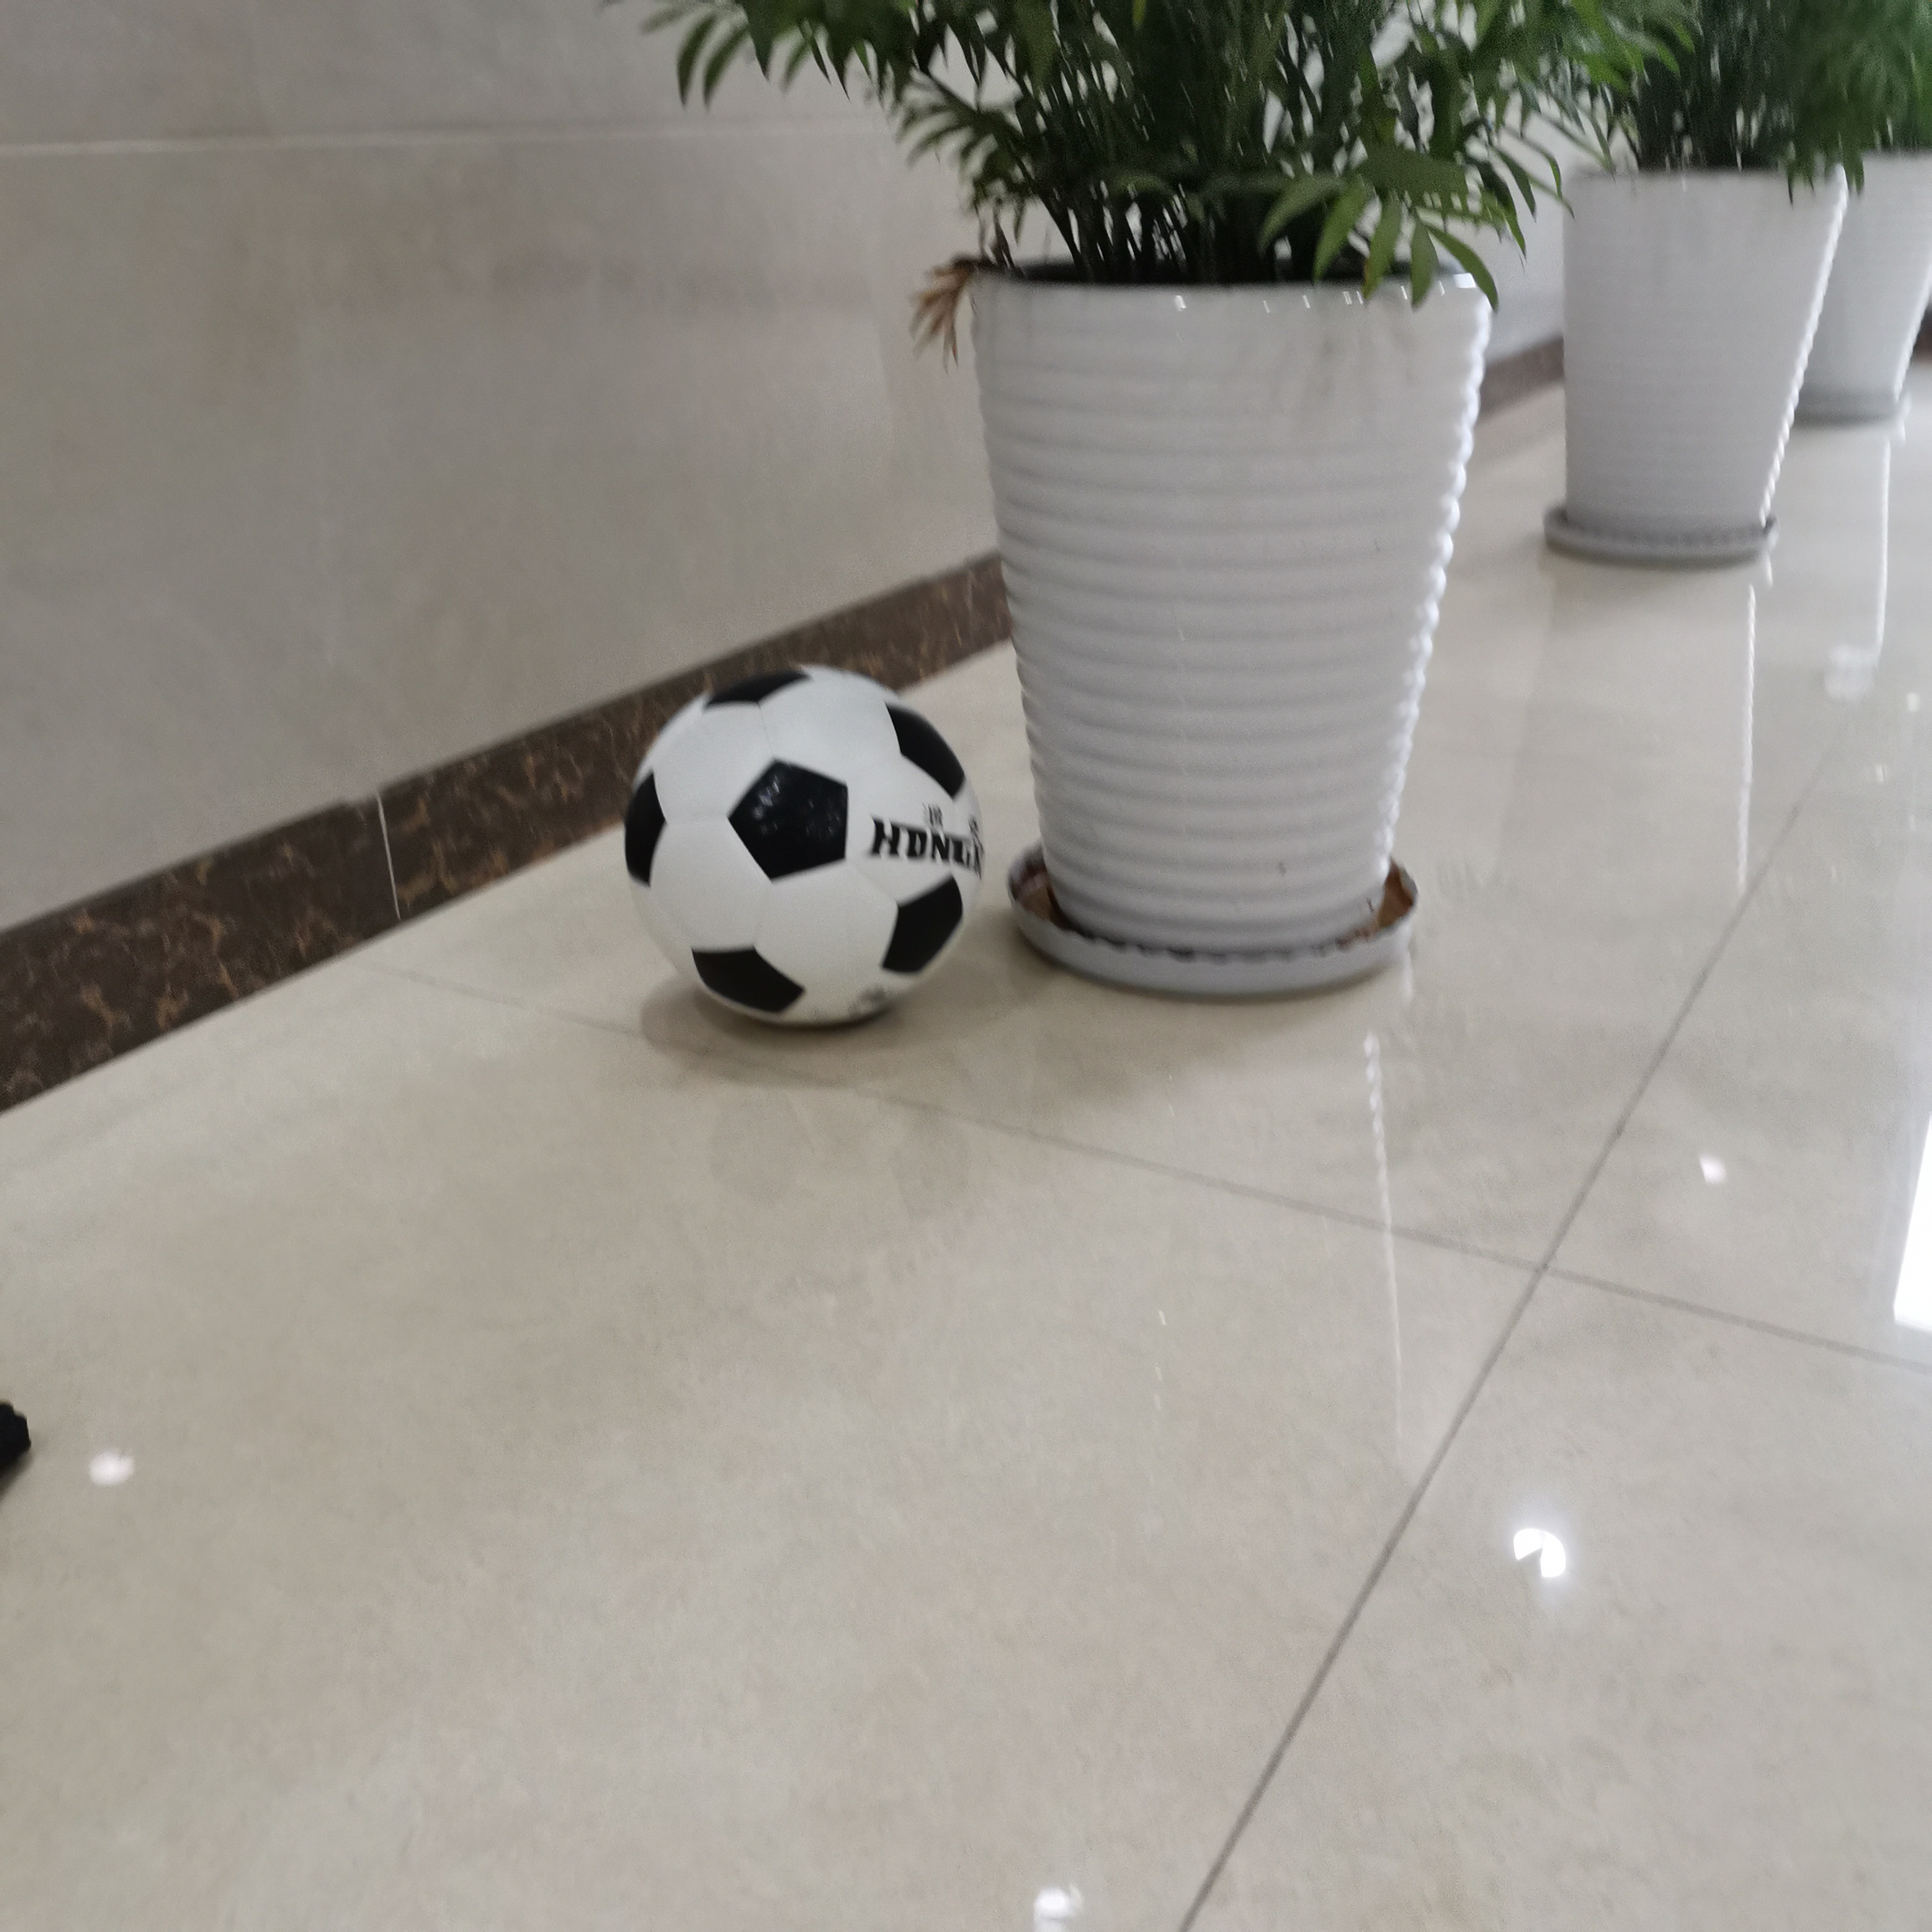football: (628, 665, 980, 1037)
